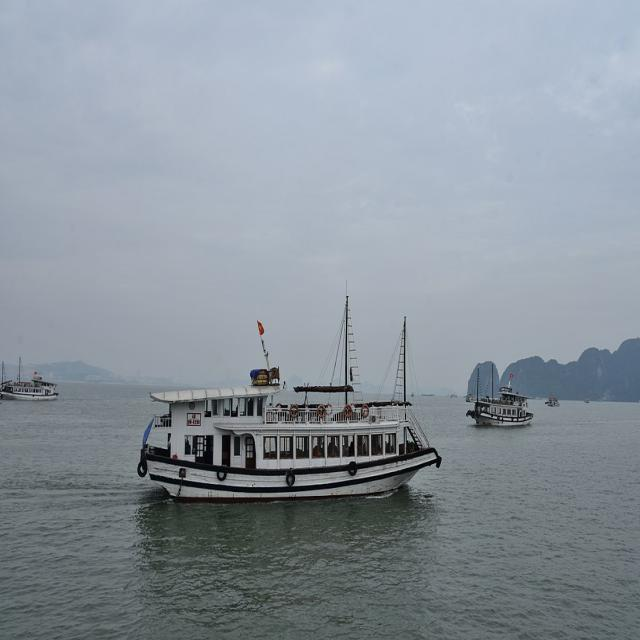passenger ship: (125, 323, 451, 516), (476, 367, 550, 450), (2, 354, 56, 398)
